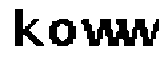k: (9, 5, 44, 50)
o: (47, 18, 75, 49)
w: (79, 14, 122, 50), (121, 14, 160, 49)
